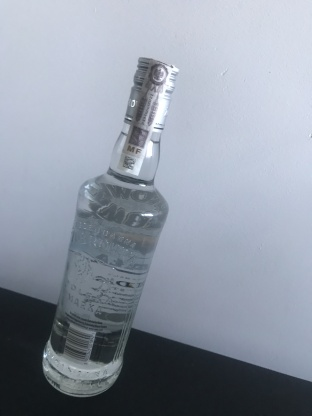nakretka: (122, 54, 180, 136)
